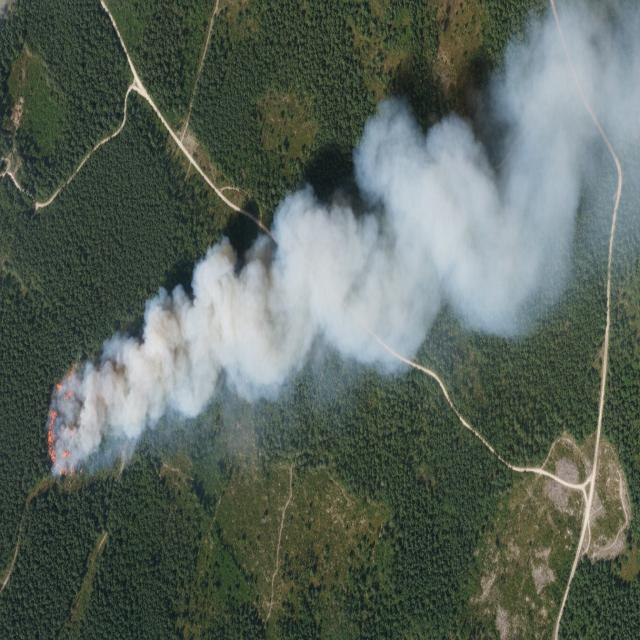wildfire: (43, 292, 199, 482)
